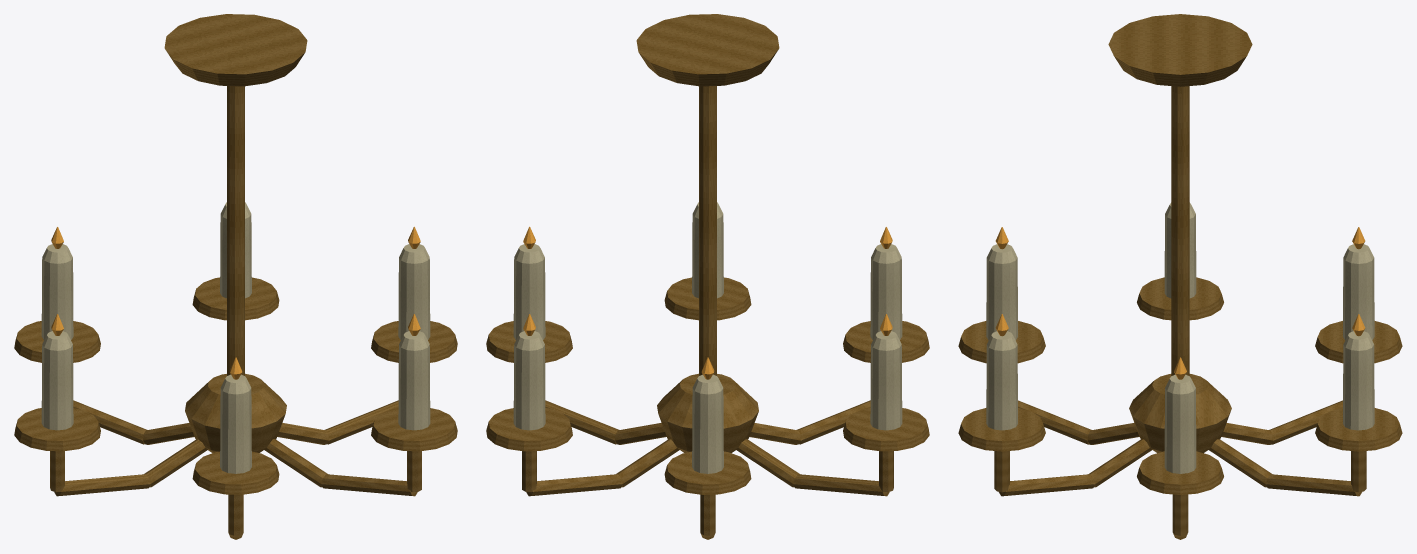
The model's file is level_light_candle_chandelier.glb.
The picture shows the model from 3 angles, left to right: view 1: azimuth 30°, elevation 25°; view 2: azimuth 150°, elevation 25°; view 3: azimuth 270°, elevation 25°; orthographic projection.
Visible parts, largest first — view 1: level_light_candle_chandelier; view 2: level_light_candle_chandelier; view 3: level_light_candle_chandelier.
Boxes of the visible parts, bbox=[...] form: level_light_candle_chandelier: bbox=[14, 14, 457, 539]; level_light_candle_chandelier: bbox=[486, 14, 929, 539]; level_light_candle_chandelier: bbox=[958, 14, 1402, 539].
Size of the model in its own units: 0.97 by 0.9048 by 0.8628.
Materials: 4 (4 with a texture image).
